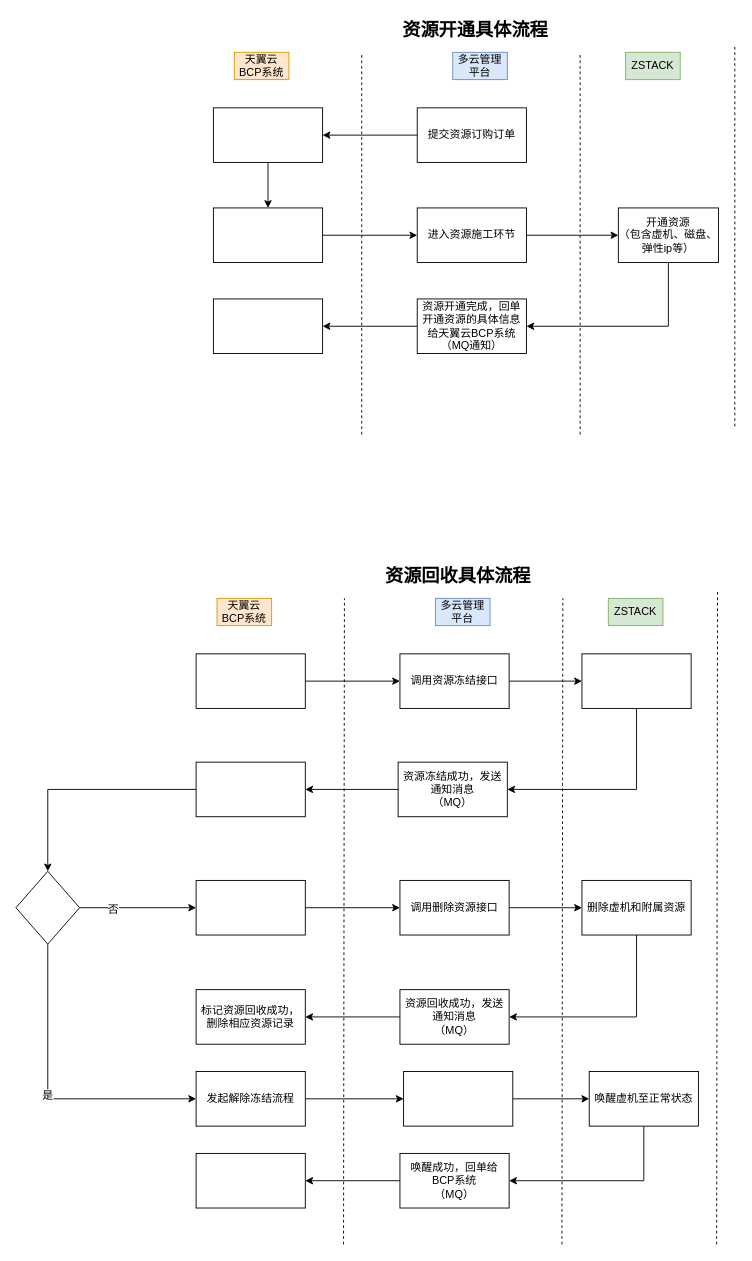
This 752x1261 diagram has some shape labels left out. The shapes that lost their labels are listed below. From the top down, each one's centre as x and y in pixels, then its label:
At pixel 267 134: "接收资源订单，计算计费信息，等待资源开通".
At pixel 267 235: "下发资源开通消息（MQ通知）".
At pixel 267 326: "回填BCP系统具体资源信息".
At pixel 250 680: "资源到期，发送资源冻结消息通知 （MQ）".
At pixel 636 680: "冻结虚机资源".
At pixel 250 789: "标记资源已冻结".
At pixel 47 907: "是否续订".
At pixel 250 907: "冻结期结束，用户未续订，发送消息通知回收资源（MQ）".
At pixel 458 1098: "恢复虚机至正常状态".
At pixel 250 1180: "解除冻结，更新虚机到期时间".
